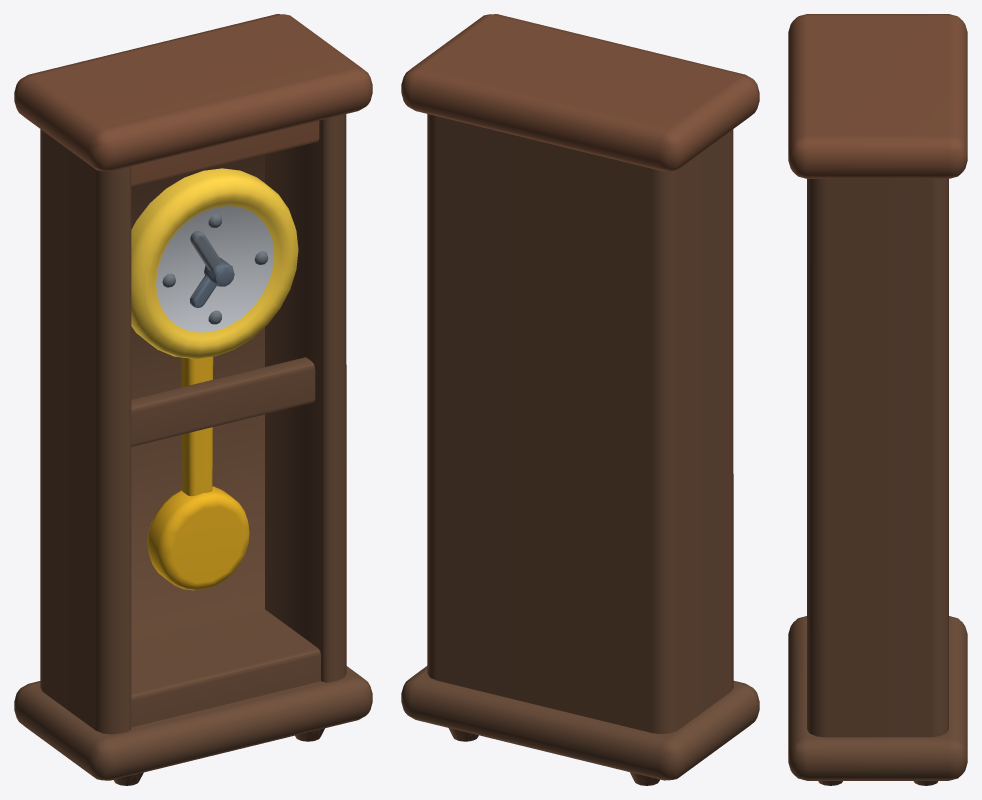
File: relogio_pe_pacote.glb
3 views of the same model, side by side, from view 1: azimuth 30°, elevation 25°; view 2: azimuth 150°, elevation 25°; view 3: azimuth 270°, elevation 25° (orthographic).
Parts seen in each view (by area): view 1: relogio_pe_pacote; view 2: relogio_pe_pacote; view 3: relogio_pe_pacote.
Boxes of the visible parts, x1=… form: relogio_pe_pacote: x1=14, y1=14, x2=372, y2=785; relogio_pe_pacote: x1=401, y1=14, x2=759, y2=785; relogio_pe_pacote: x1=788, y1=14, x2=967, y2=785.
Size of the model in its own units: 0.68 by 1.55 by 0.38.
1 material, 1 textured.
